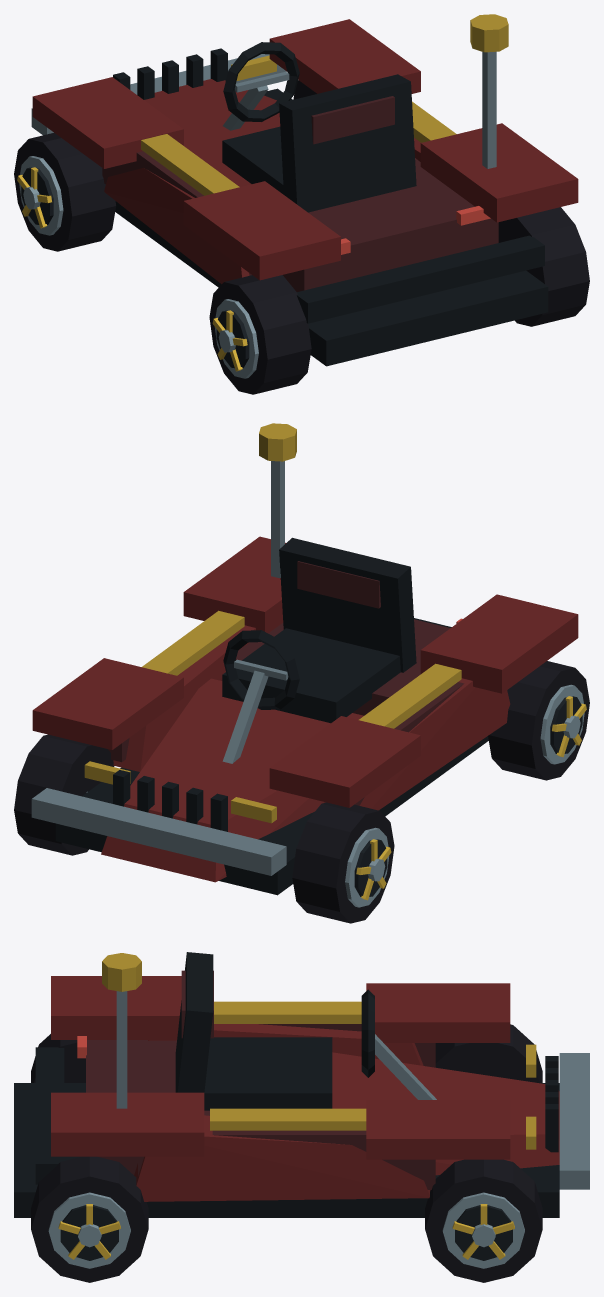
Rendered from kart.glb.
3 renders of one model, top to bottom at view 1: azimuth 30°, elevation 25°; view 2: azimuth 150°, elevation 25°; view 3: azimuth 270°, elevation 25°, orthographic.
Visible parts, largest first — view 1: chassis, wheel-rear-left, wheel-front-left, wheel-rear-right; view 2: chassis, wheel-front-left, wheel-rear-left, wheel-front-right; view 3: chassis, wheel-rear-right, wheel-front-right, wheel-front-left, wheel-rear-left.
Part boxes in pixels (x1=…): chassis: x1=31, y1=14, x2=578, y2=366; wheel-rear-left: x1=209, y1=275, x2=311, y2=394; wheel-front-left: x1=14, y1=133, x2=115, y2=251; wheel-rear-right: x1=498, y1=207, x2=589, y2=326; chassis: x1=31, y1=423, x2=578, y2=895; wheel-front-left: x1=292, y1=802, x2=394, y2=923; wheel-rear-left: x1=488, y1=661, x2=589, y2=780; wheel-front-right: x1=14, y1=734, x2=114, y2=855; chassis: x1=14, y1=952, x2=589, y2=1217; wheel-rear-right: x1=31, y1=1156, x2=148, y2=1282; wheel-front-right: x1=425, y1=1159, x2=542, y2=1282; wheel-front-left: x1=435, y1=1024, x2=542, y2=1082; wheel-rear-left: x1=31, y1=1034, x2=85, y2=1082.
Size of the model in its own units: 2.15 by 1.72 by 3.04.
